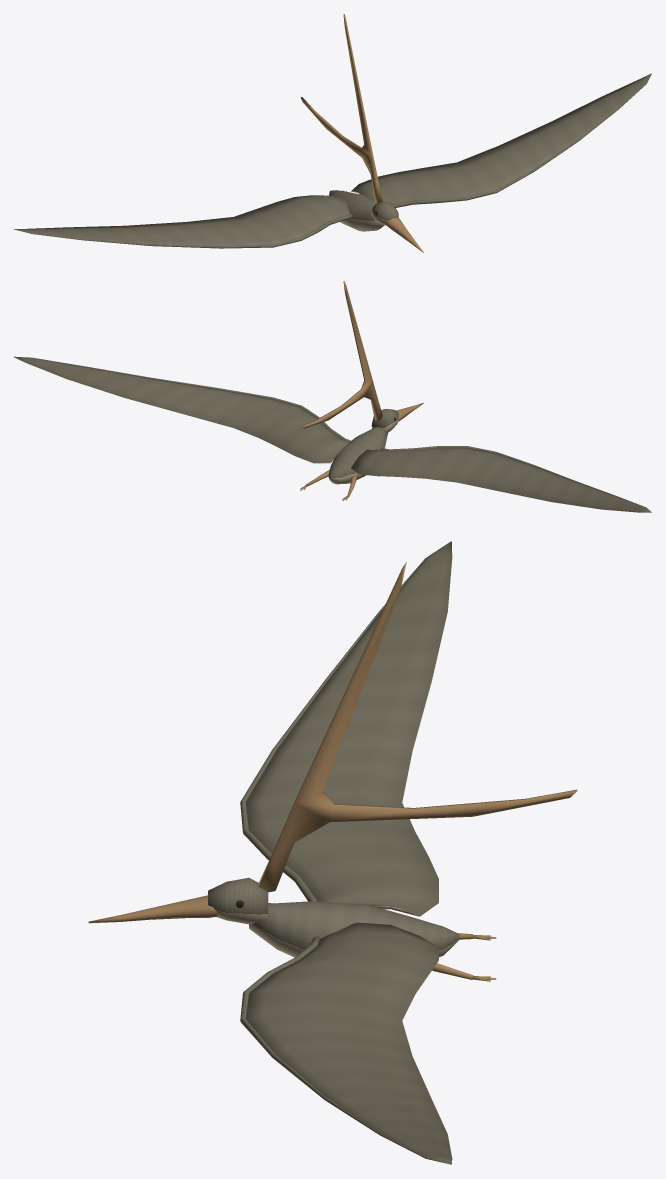
3 views of the same model, one above another, from view 1: azimuth 30°, elevation 25°; view 2: azimuth 150°, elevation 25°; view 3: azimuth 270°, elevation 25° (orthographic). The views are drawn at different scales.
Visible parts, largest first — view 1: Right closed cambered wing membrane, Left closed cambered wing membrane, Single continuous bare forked cranial crest, Streamlined tiny thorax and short neck, Continuous shoulder elbow wrist wing-finger -1, Continuous shoulder elbow wrist wing-finger 1, Long low head toothless jaws, Long tapering closed toothless beak; view 2: Right closed cambered wing membrane, Left closed cambered wing membrane, Streamlined tiny thorax and short neck, Single continuous bare forked cranial crest, Continuous shoulder elbow wrist wing-finger 1, Continuous shoulder elbow wrist wing-finger -1, Long low head toothless jaws; view 3: Left closed cambered wing membrane, Right closed cambered wing membrane, Single continuous bare forked cranial crest, Streamlined tiny thorax and short neck, Long low head toothless jaws, Continuous shoulder elbow wrist wing-finger -1, Continuous shoulder elbow wrist wing-finger 1, Long tapering closed toothless beak.
Boxes of the visible parts, left/top/right/bottom form: Right closed cambered wing membrane: left=351, top=73, right=651, bottom=204; Left closed cambered wing membrane: left=14, top=195, right=350, bottom=245; Single continuous bare forked cranial crest: left=300, top=14, right=382, bottom=203; Streamlined tiny thorax and short neck: left=329, top=190, right=384, bottom=231; Continuous shoulder elbow wrist wing-finger -1: left=14, top=214, right=352, bottom=248; Continuous shoulder elbow wrist wing-finger 1: left=392, top=74, right=651, bottom=207; Long low head toothless jaws: left=371, top=201, right=398, bottom=225; Long tapering closed toothless beak: left=384, top=218, right=423, bottom=252; Right closed cambered wing membrane: left=14, top=356, right=348, bottom=463; Left closed cambered wing membrane: left=351, top=447, right=651, bottom=512; Streamlined tiny thorax and short neck: left=328, top=427, right=387, bottom=484; Single continuous bare forked cranial crest: left=301, top=281, right=382, bottom=428; Continuous shoulder elbow wrist wing-finger 1: left=20, top=357, right=350, bottom=442; Continuous shoulder elbow wrist wing-finger -1: left=380, top=446, right=650, bottom=511; Long low head toothless jaws: left=371, top=409, right=398, bottom=432; Left closed cambered wing membrane: left=246, top=541, right=452, bottom=916; Right closed cambered wing membrane: left=246, top=922, right=452, bottom=1164; Single continuous bare forked cranial crest: left=258, top=562, right=577, bottom=892; Streamlined tiny thorax and short neck: left=249, top=901, right=459, bottom=957; Long low head toothless jaws: left=208, top=877, right=268, bottom=924; Continuous shoulder elbow wrist wing-finger -1: left=240, top=543, right=447, bottom=901; Continuous shoulder elbow wrist wing-finger 1: left=240, top=936, right=450, bottom=1164; Long tapering closed toothless beak: left=88, top=895, right=217, bottom=923.
Bounding box in the file's own units: 1 × 0.304 × 0.332.
Materials: 4 (1 with a texture image).
